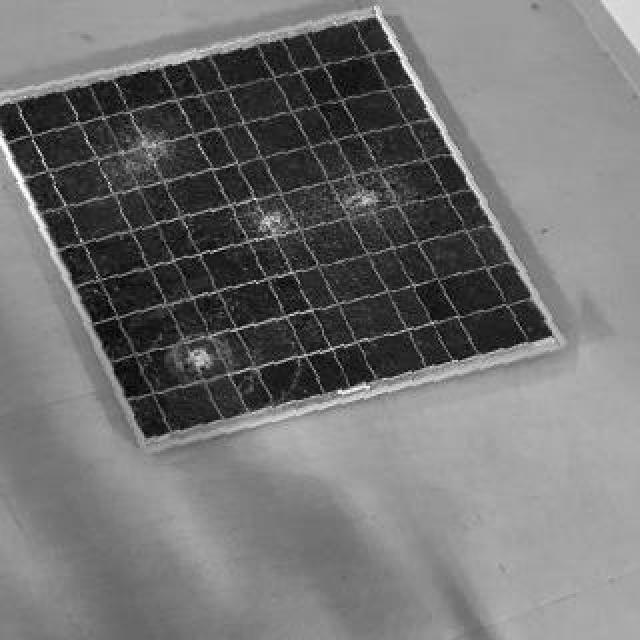Physical-damage: (160, 330, 235, 384), (244, 198, 305, 252), (334, 178, 396, 223), (120, 128, 172, 172)
